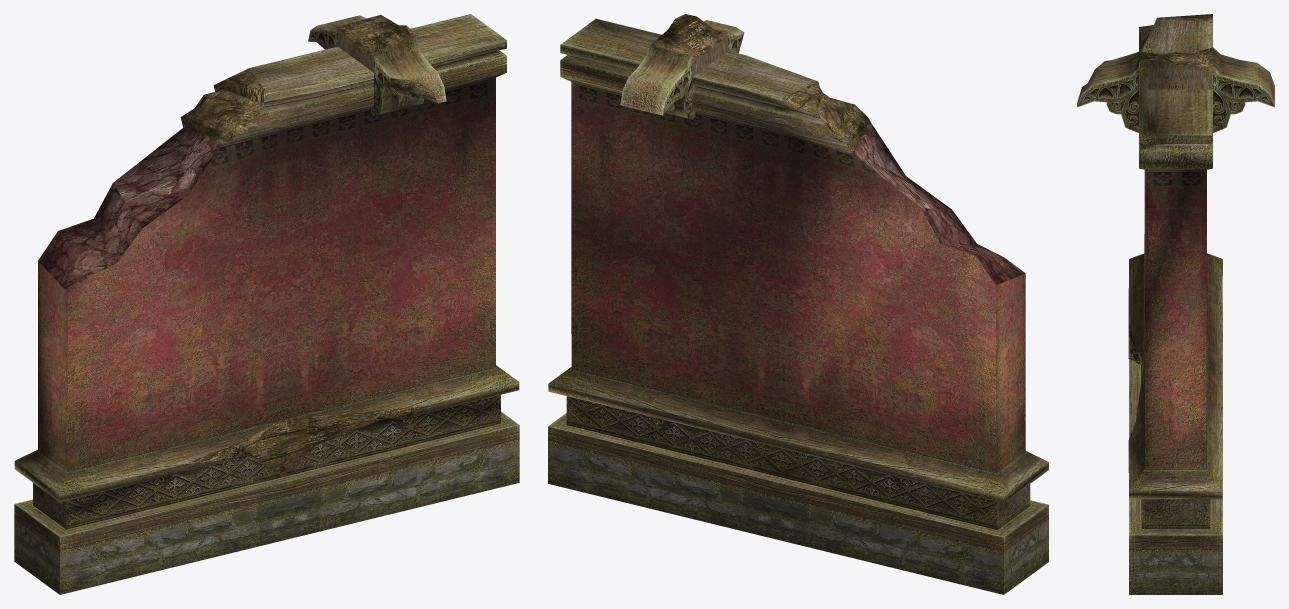
The model's file is fortressa_wall_a_02.glb.
3 views of the same model, side by side, from view 1: azimuth 30°, elevation 25°; view 2: azimuth 150°, elevation 25°; view 3: azimuth 270°, elevation 25° (orthographic). The views are drawn at different scales.
Parts seen in each view (by area): view 1: fortressA_wall_A_02; view 2: fortressA_wall_A_02; view 3: fortressA_wall_A_02.
Part boxes in pixels (x1,y1,x2,y2): fortressA_wall_A_02: (14, 14, 519, 594); fortressA_wall_A_02: (548, 14, 1048, 594); fortressA_wall_A_02: (1077, 14, 1274, 594).
Size of the model in its own units: 13.79 by 13.49 by 4.97.
2 materials, 2 textured.
